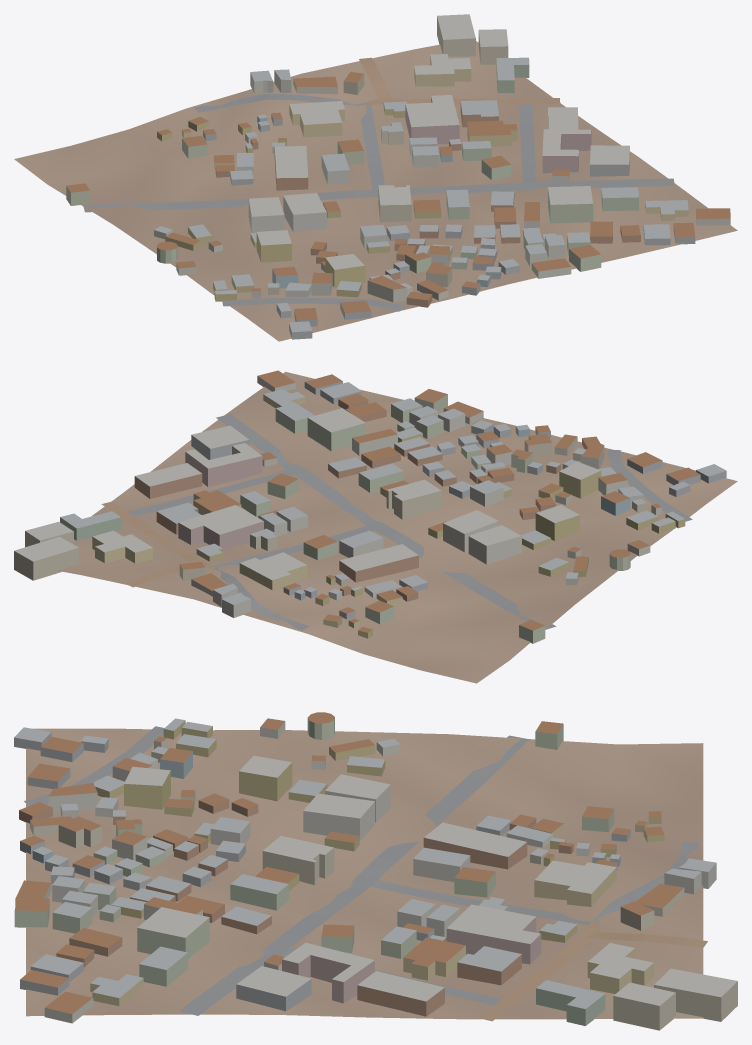
The picture shows the model from 3 angles, top to bottom: view 1: azimuth 30°, elevation 25°; view 2: azimuth 150°, elevation 25°; view 3: azimuth 270°, elevation 25°; orthographic projection. The views are drawn at different scales.
Visible parts, largest first — view 1: Lo; view 2: Lo; view 3: Lo.
Part boxes in pixels (left/top/right/bottom): Lo: left=14, top=14, right=737, bottom=341; Lo: left=14, top=370, right=737, bottom=683; Lo: left=14, top=712, right=737, bottom=1030.
Size of the model in its own units: 269 by 17.32 by 274.
